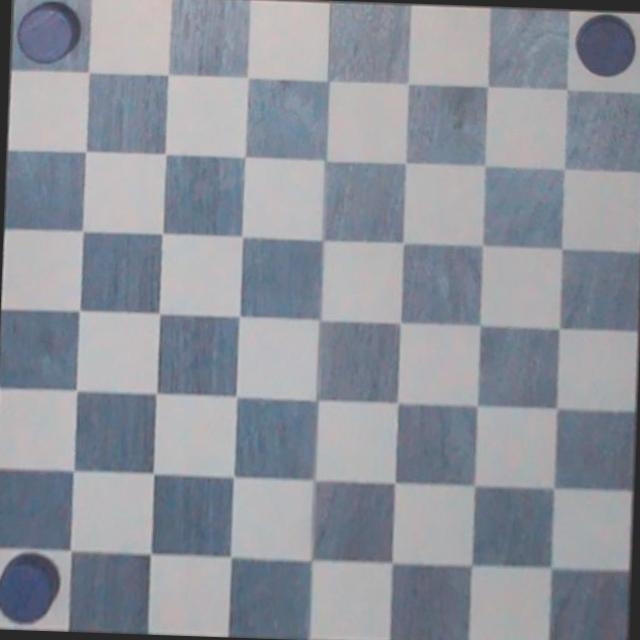BOARD: (0, 0, 640, 640)
black: (9, 0, 92, 74), (0, 545, 68, 629), (569, 11, 640, 79)
